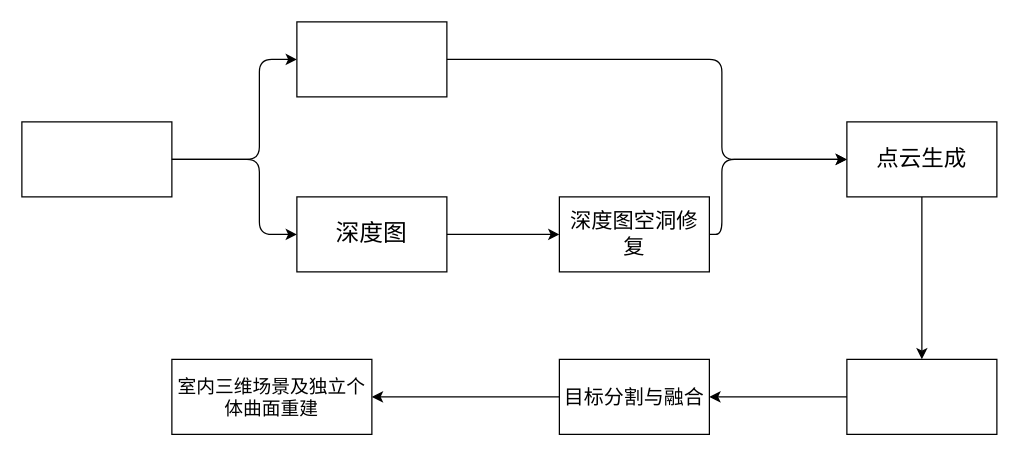
This 1019x456 diagram has some shape labels left out. Here are the shapes that lost their labels. From the top down, the centre of each, then its label:
At (371,59): "彩色图".
At (96,159): "双目相机".
At (921,396): "多帧点云配准及融合".
